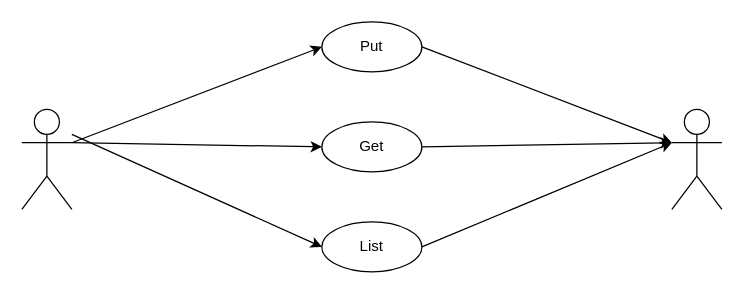
Image size: 744x294. Some labels were removed from this diagram. The shapes that lost their labels are listed below. From the top down, each one's centre as x and y in pixels, then its label:
At pixel 46 158: "User".
At pixel 696 158: "Server".
